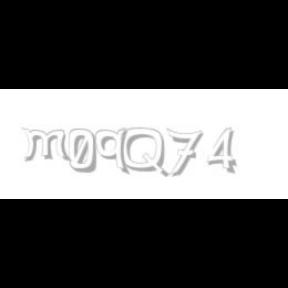0: (68, 128, 100, 174)
4: (207, 128, 238, 174)
7: (166, 128, 204, 178)
Q: (121, 128, 167, 178)
m: (21, 128, 73, 162)
q: (95, 128, 131, 176)
